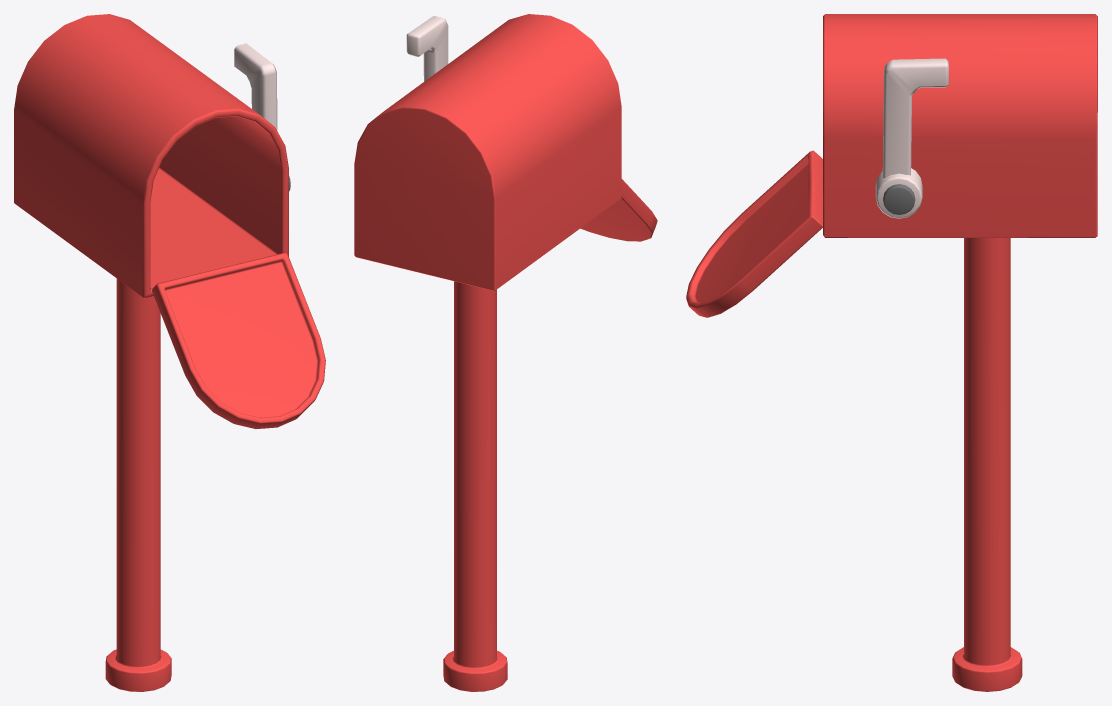
The model's file is Town_7_Mail_Box_1.glb.
3 views of the same model, side by side, from view 1: azimuth 30°, elevation 25°; view 2: azimuth 150°, elevation 25°; view 3: azimuth 270°, elevation 25° (orthographic). The views are drawn at different scales.
Parts seen in each view (by area): view 1: Town_7_Mail_Box_1; view 2: Town_7_Mail_Box_1; view 3: Town_7_Mail_Box_1.
Part boxes in pixels (box(x1,y1,x2,y2)): Town_7_Mail_Box_1: box(14, 14, 325, 691); Town_7_Mail_Box_1: box(354, 14, 657, 691); Town_7_Mail_Box_1: box(686, 14, 1097, 691).
Bounding box in the file's own units: 0.4308 × 1.47 × 0.8296.
1 material, 1 textured.
